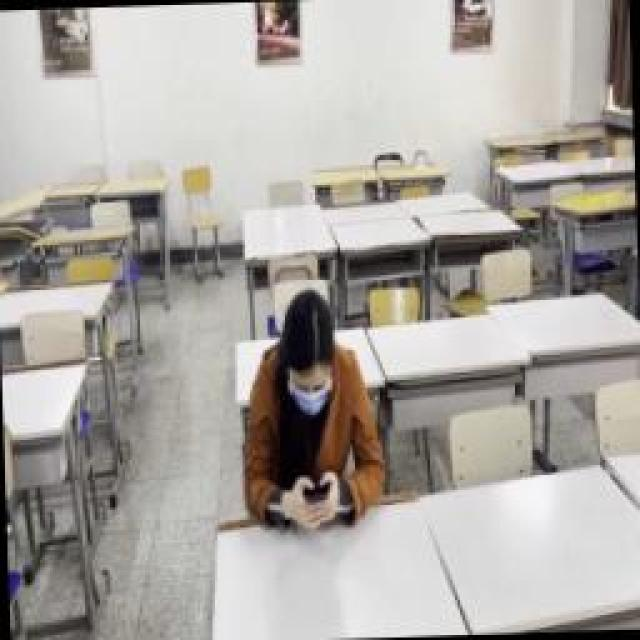phone: (238, 292, 388, 530)
